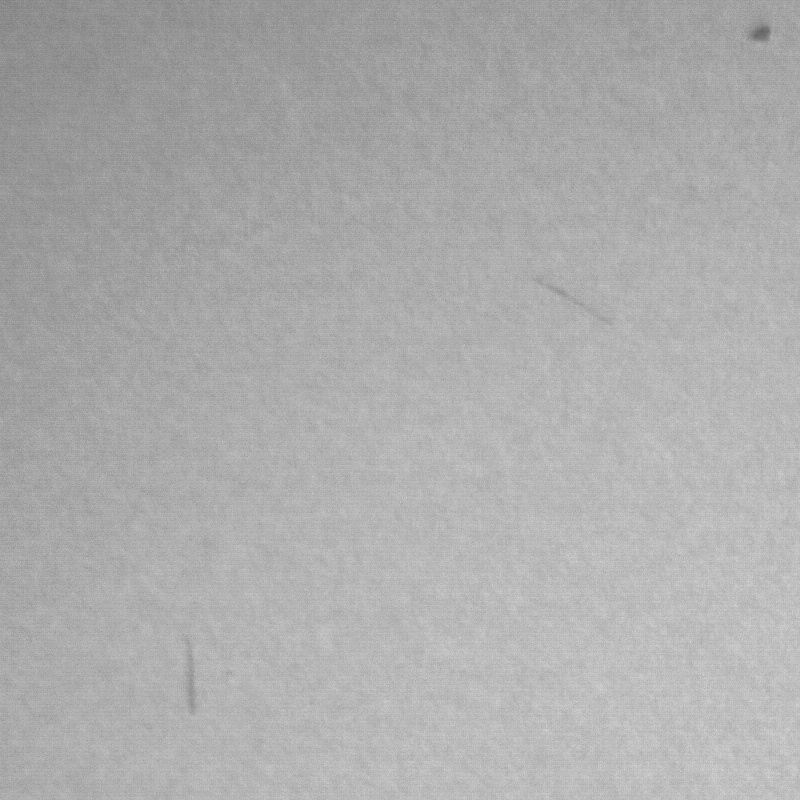defect: (545, 283, 616, 323), (184, 639, 198, 720), (752, 18, 774, 43)
